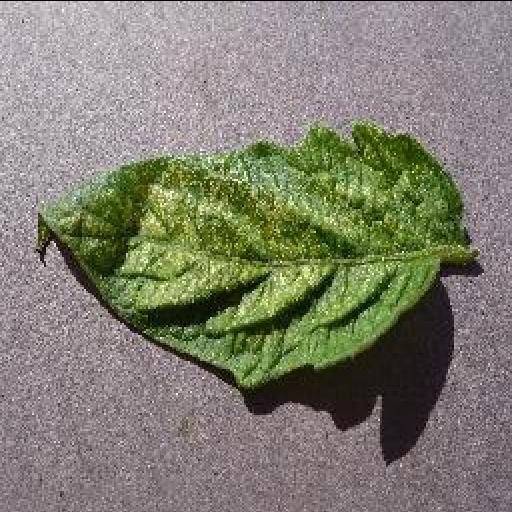disease_tomato: (36, 125, 468, 390)
